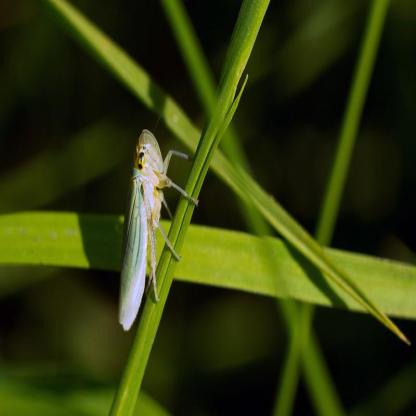Green-Leafhopper: (113, 127, 198, 323)
